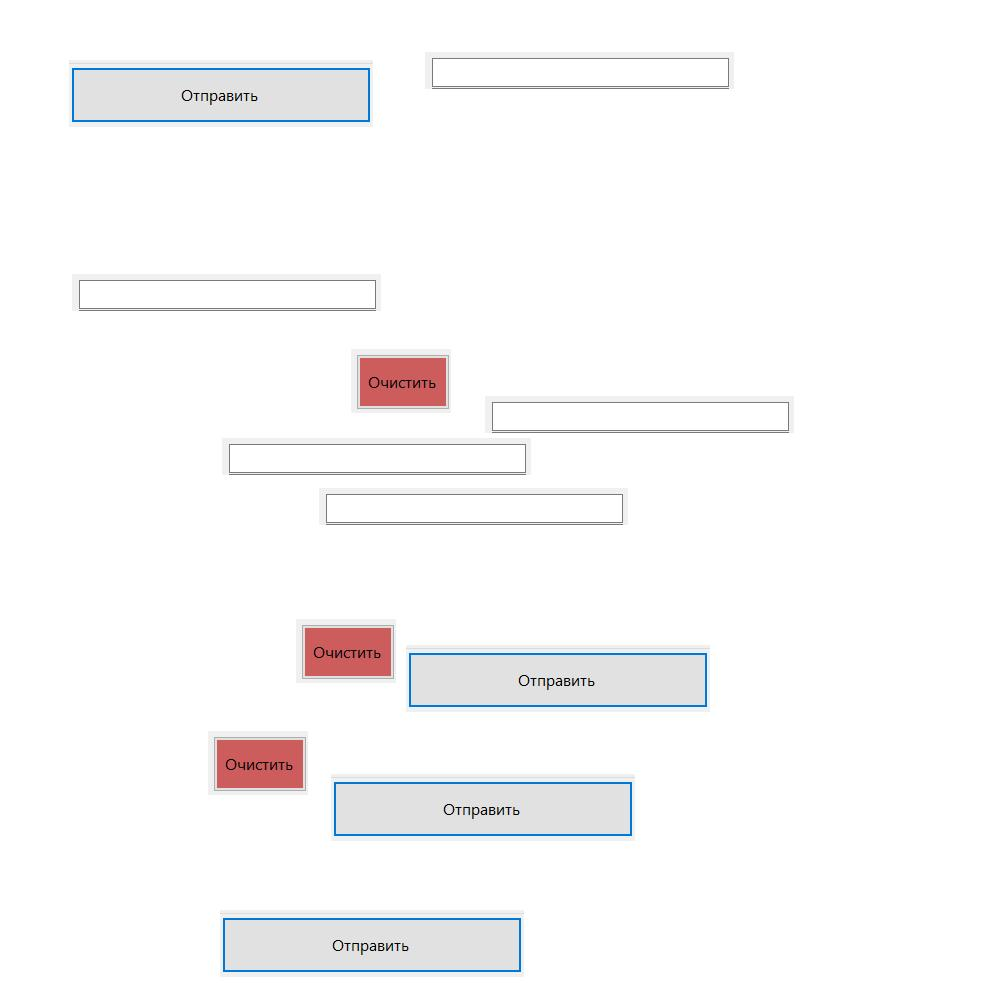Button: (220, 910, 524, 977), (331, 774, 635, 841), (406, 645, 710, 712), (69, 60, 373, 127), (296, 619, 396, 683), (208, 731, 308, 795), (351, 349, 451, 413)
EditText-: (222, 438, 531, 475), (319, 488, 628, 525), (72, 274, 381, 311), (425, 52, 734, 89), (485, 396, 794, 433)
